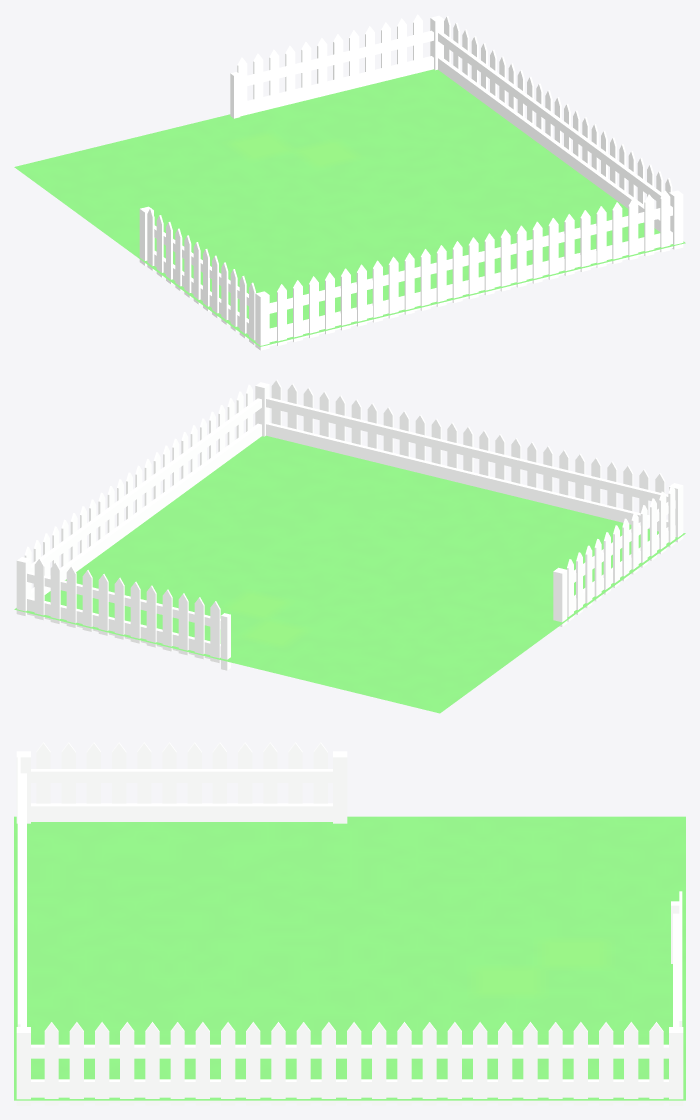
File: tile_for_home_1x1.008.glb
The picture shows the model from 3 angles, top to bottom: view 1: azimuth 30°, elevation 25°; view 2: azimuth 150°, elevation 25°; view 3: azimuth 270°, elevation 25°; orthographic projection. The views are drawn at different scales.
Visible parts, largest first — view 1: tile_for_home_1x1.008(Clone); view 2: tile_for_home_1x1.008(Clone); view 3: tile_for_home_1x1.008(Clone).
Boxes of the visible parts, x1=… form: tile_for_home_1x1.008(Clone): x1=14, y1=14, x2=685, y2=350; tile_for_home_1x1.008(Clone): x1=14, y1=379, x2=685, y2=713; tile_for_home_1x1.008(Clone): x1=14, y1=742, x2=685, y2=1105.
Size of the model in its own units: 8 by 1.19 by 8.
1 material, 1 textured.
